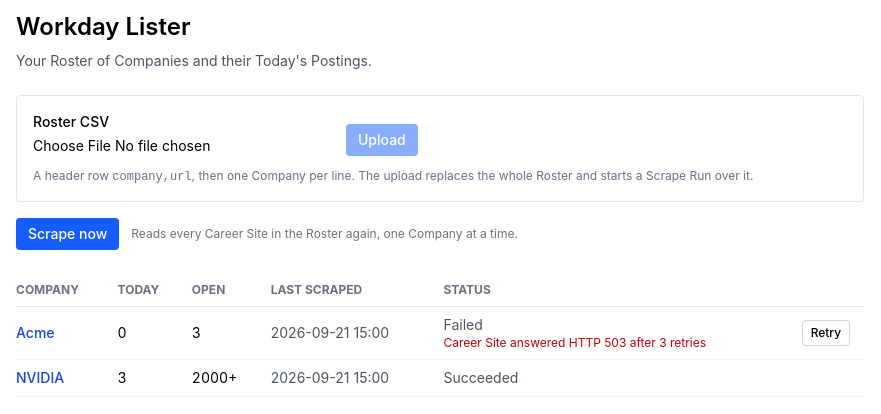
Test: a Retry of a Company that is no longer in the Roster says so and reloads the Roster
What coordinates should you click on to do the following:
click the button "Retry"
I would click on:
 (826, 333)
Its box is [802, 320, 850, 346].
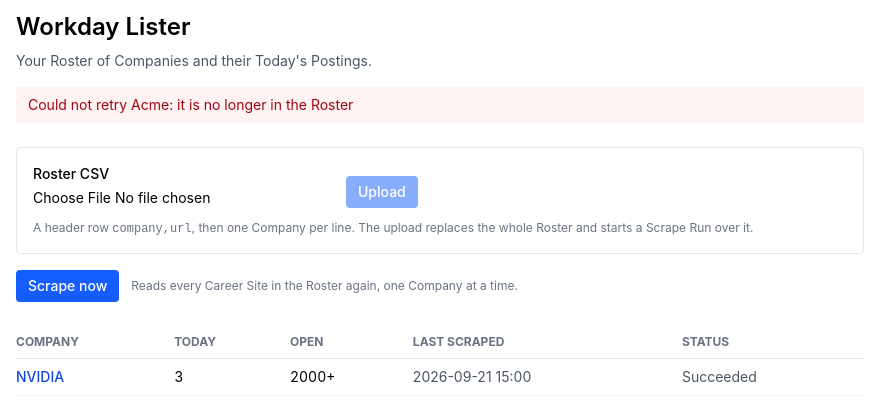
Expected: the link "NVIDIA" is shown, [16, 368, 64, 385]
Expected: the message reads "Could not retry Acme: it is no longer in the Roster", [28, 96, 353, 113]
